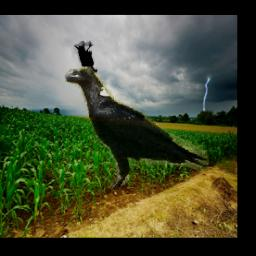Crow: (62, 67, 209, 193), (73, 39, 97, 74)
